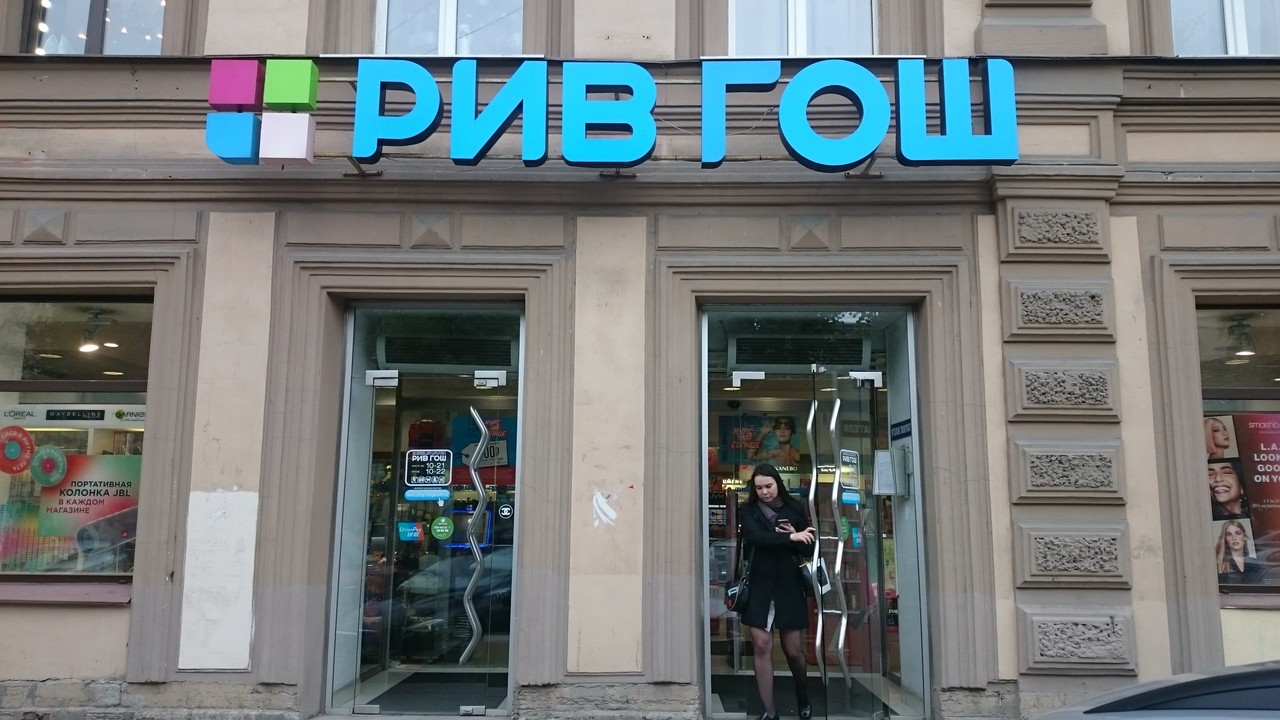door: (707, 373, 929, 720), (351, 379, 509, 716)
signboard: (207, 57, 1021, 167)
window: (1, 289, 157, 575)
